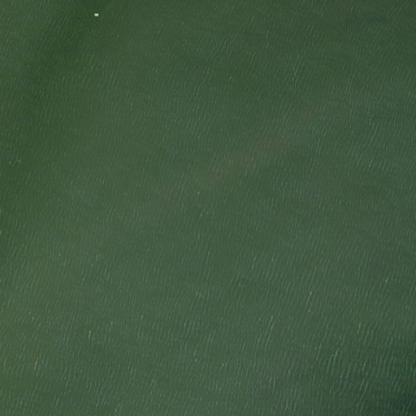ship: (85, 6, 106, 21)
